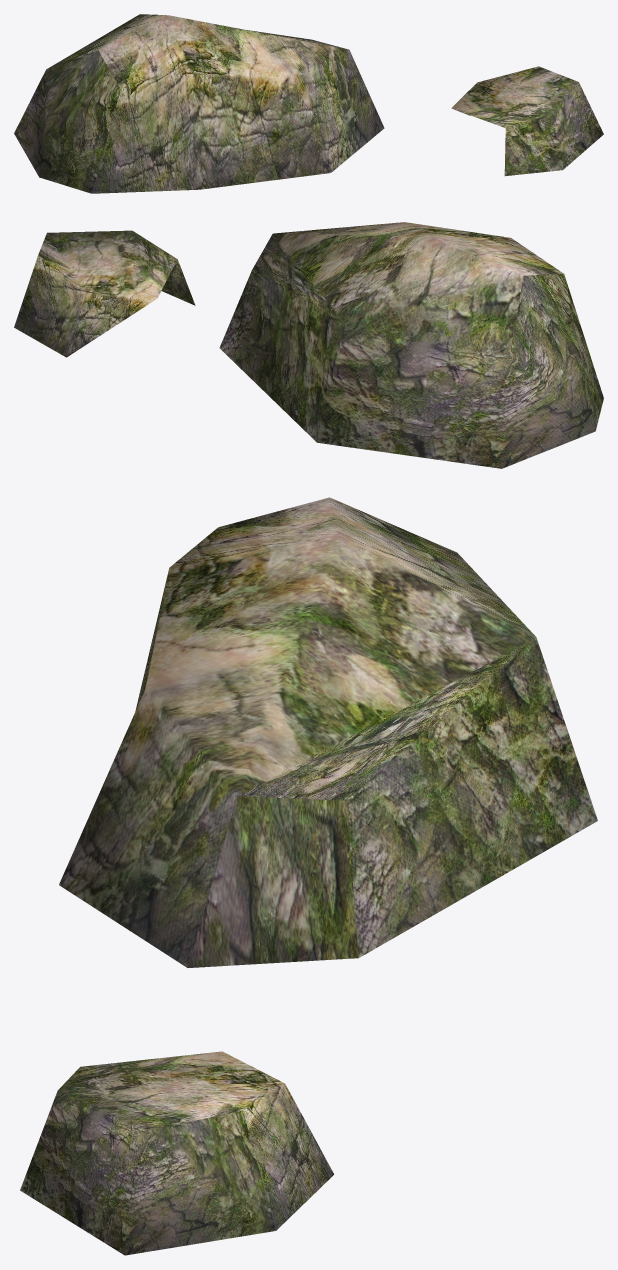
File: S_Rock_Green036_A2.FBX
The picture shows the model from 3 angles, top to bottom: view 1: azimuth 30°, elevation 25°; view 2: azimuth 150°, elevation 25°; view 3: azimuth 270°, elevation 25°; orthographic projection. The views are drawn at different scales.
Parts seen in each view (by area): view 1: S_Rock_Green036_A2; view 2: S_Rock_Green036_A2; view 3: S_Rock_Green036_A2.
Boxes of the visible parts, x1,y1,x2,y2 form: S_Rock_Green036_A2: [14, 14, 603, 193]; S_Rock_Green036_A2: [14, 222, 603, 468]; S_Rock_Green036_A2: [20, 497, 597, 1255].
Bounding box in the file's own units: 843 × 271 × 411.
